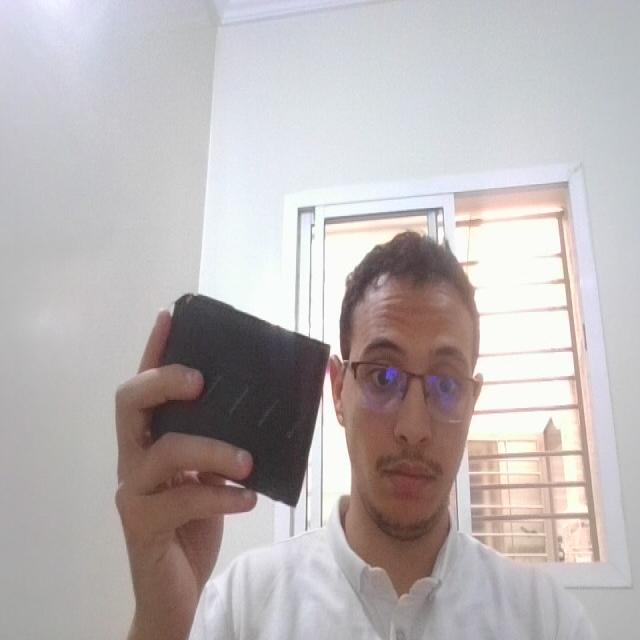wallet: (138, 270, 344, 514)
